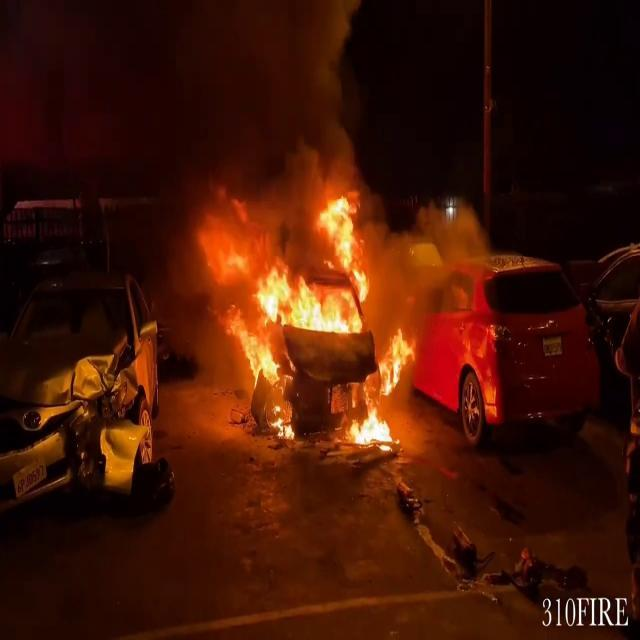Fire: (188, 188, 414, 442), (346, 400, 400, 452)
